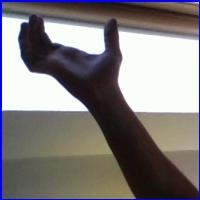space: (17, 11, 135, 99)
